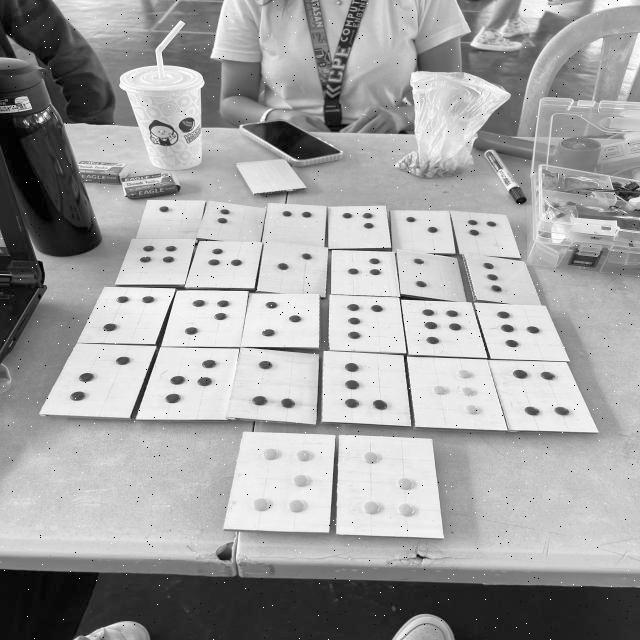A: (136, 200, 204, 239)
B: (198, 201, 265, 242)
C: (264, 204, 326, 247)
D: (329, 206, 391, 248)
E: (391, 211, 455, 254)
F: (450, 211, 521, 258)
G: (115, 238, 195, 284)
H: (185, 242, 261, 289)
I: (257, 242, 328, 297)
J: (332, 250, 399, 296)
K: (397, 250, 467, 302)
L: (465, 255, 541, 305)
M: (77, 286, 175, 344)
N: (161, 291, 248, 346)
O: (241, 294, 319, 347)
P: (330, 295, 406, 353)
Q: (401, 300, 487, 357)
R: (475, 303, 569, 361)
S: (41, 344, 155, 417)
T: (137, 348, 239, 419)
U: (227, 348, 319, 424)
V: (323, 351, 409, 425)
W: (408, 357, 506, 430)
X: (489, 360, 598, 432)
Y: (225, 433, 335, 532)
Z: (339, 435, 442, 536)
